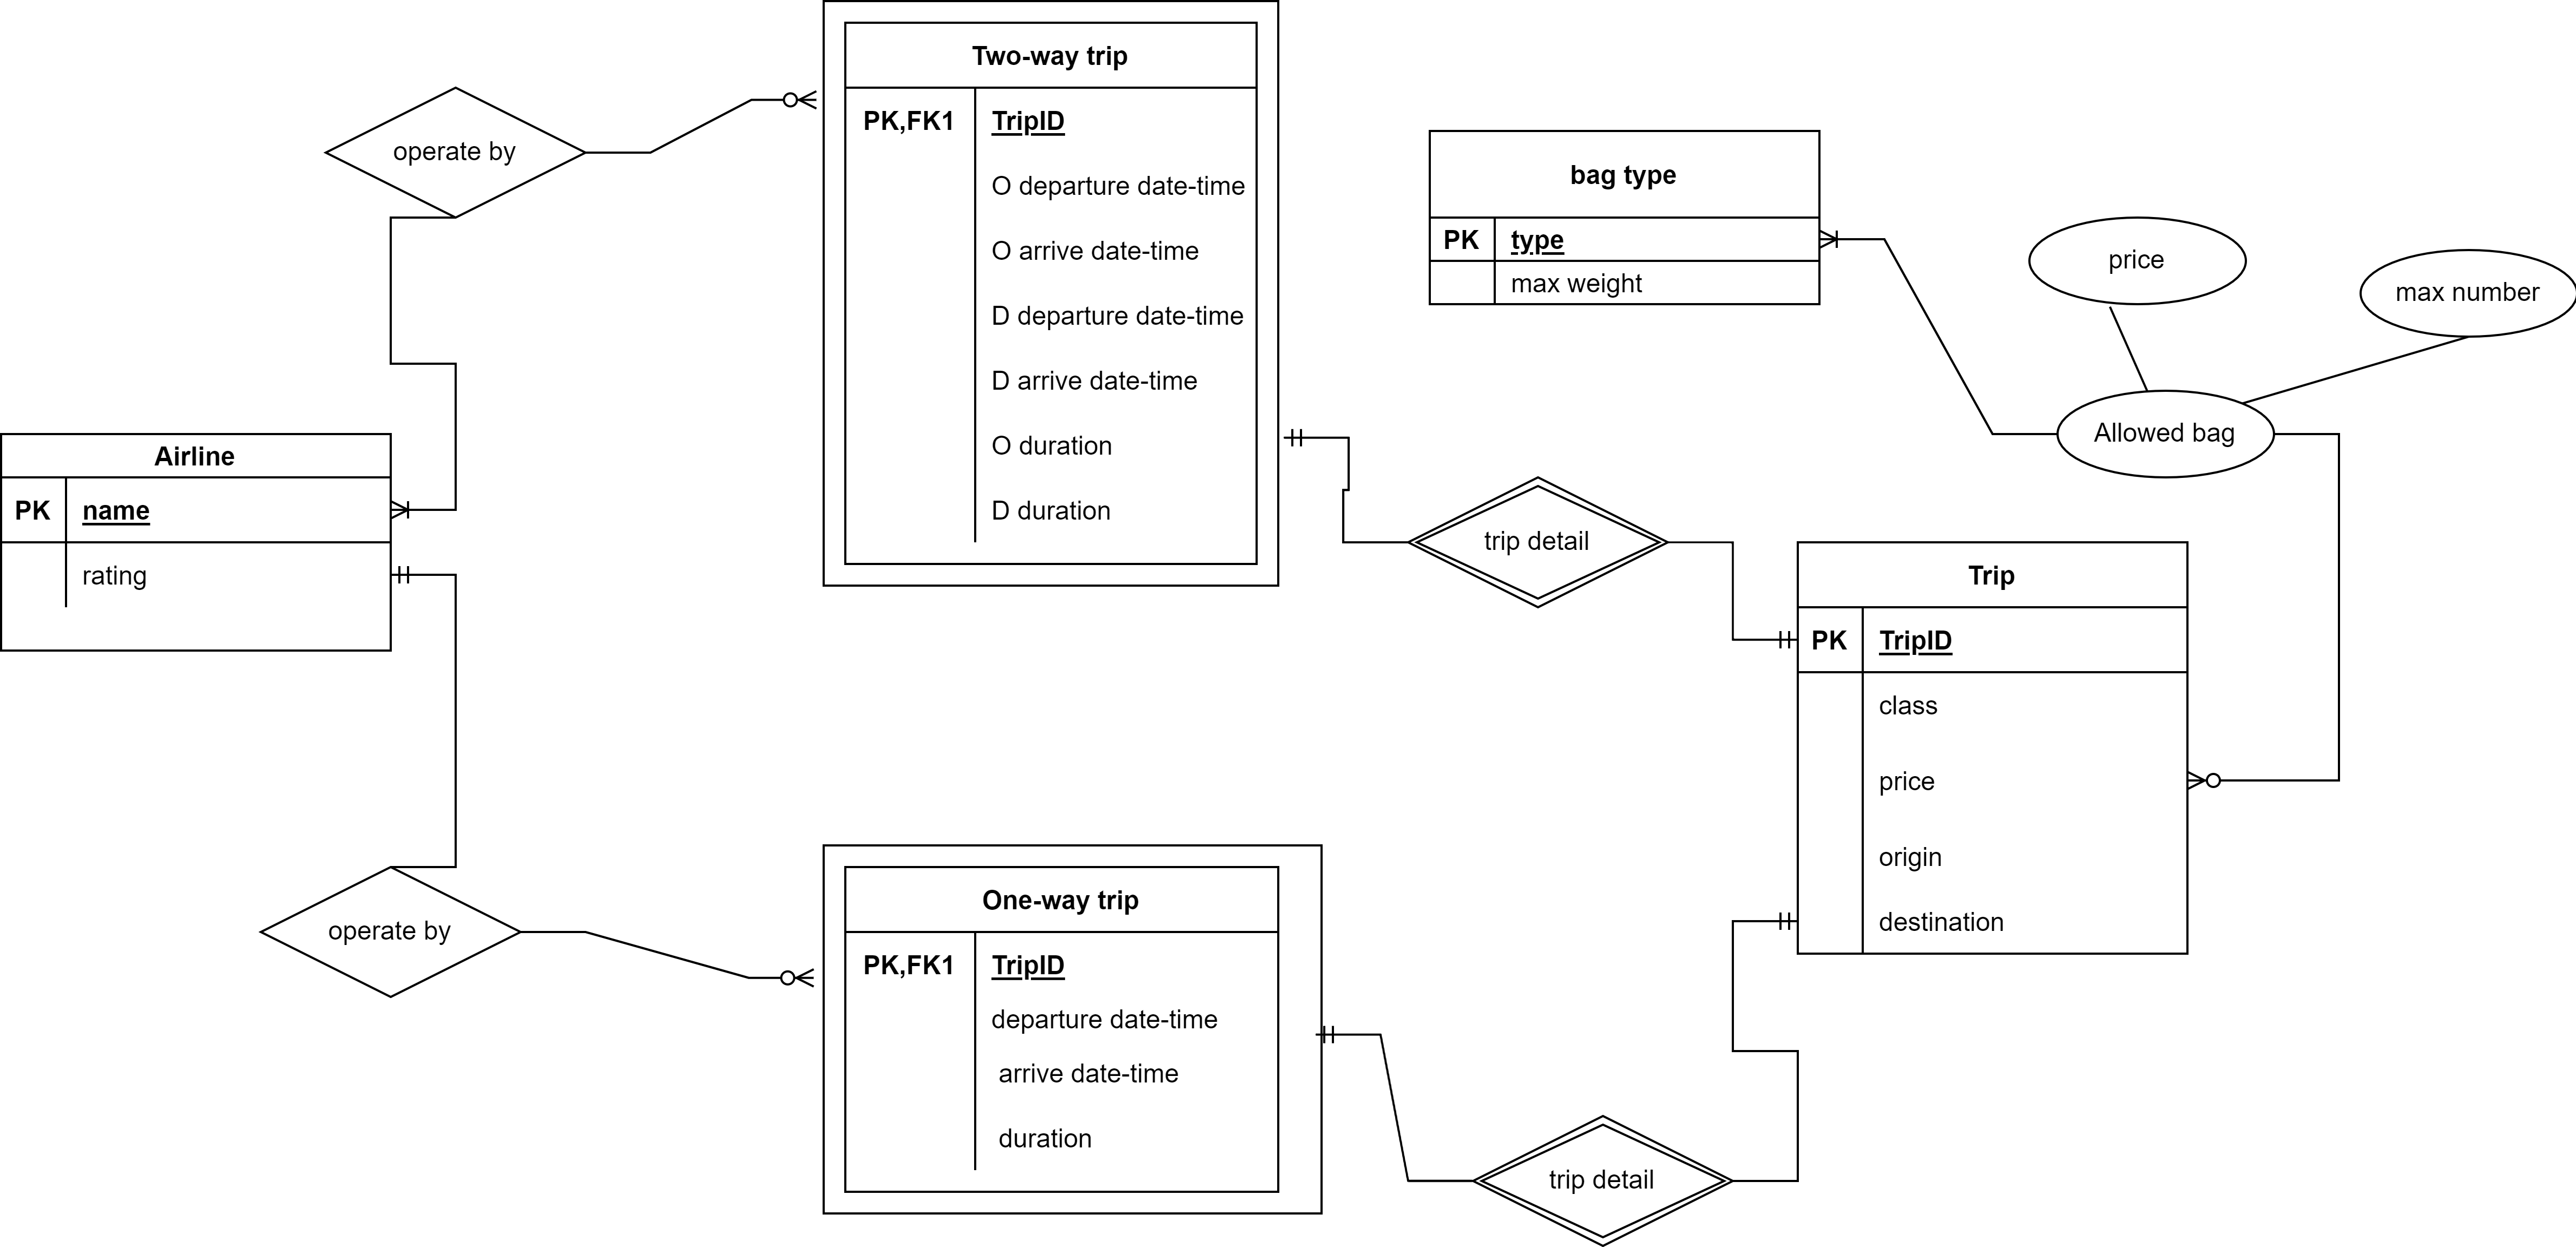entity: (1797, 539, 2187, 953), (2, 430, 391, 649), (1429, 130, 1820, 307)
ident_rel: (1408, 476, 1669, 613), (1479, 1116, 1736, 1247)
many: (2187, 769, 2339, 794), (751, 92, 818, 115), (743, 966, 815, 987), (1819, 230, 1884, 250), (391, 501, 455, 519)
one: (1730, 910, 1797, 935), (391, 564, 458, 587), (1321, 1020, 1378, 1045), (1732, 629, 1799, 649), (1280, 430, 1350, 449)
rel: (263, 866, 519, 996), (327, 87, 582, 214)
rel_attr: (2029, 217, 2244, 304), (2362, 251, 2576, 338), (2057, 391, 2272, 476)
weak_entity: (823, 0, 1278, 590), (823, 840, 1324, 1219)
